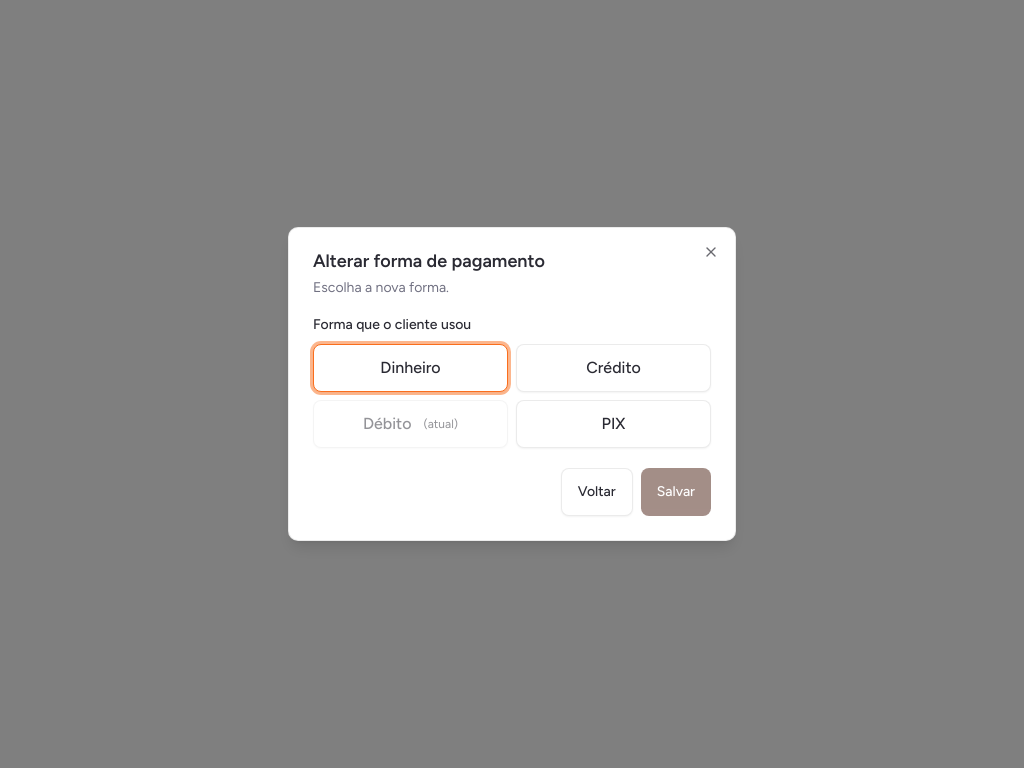
Test case: ChangePaymentMethodDialog › só habilita o confirmar depois de escolher uma forma
Check: the button "Salvar" is disabled, box [641, 468, 711, 516]
Click the button "Crédito" at [614, 368], box [516, 344, 711, 392]
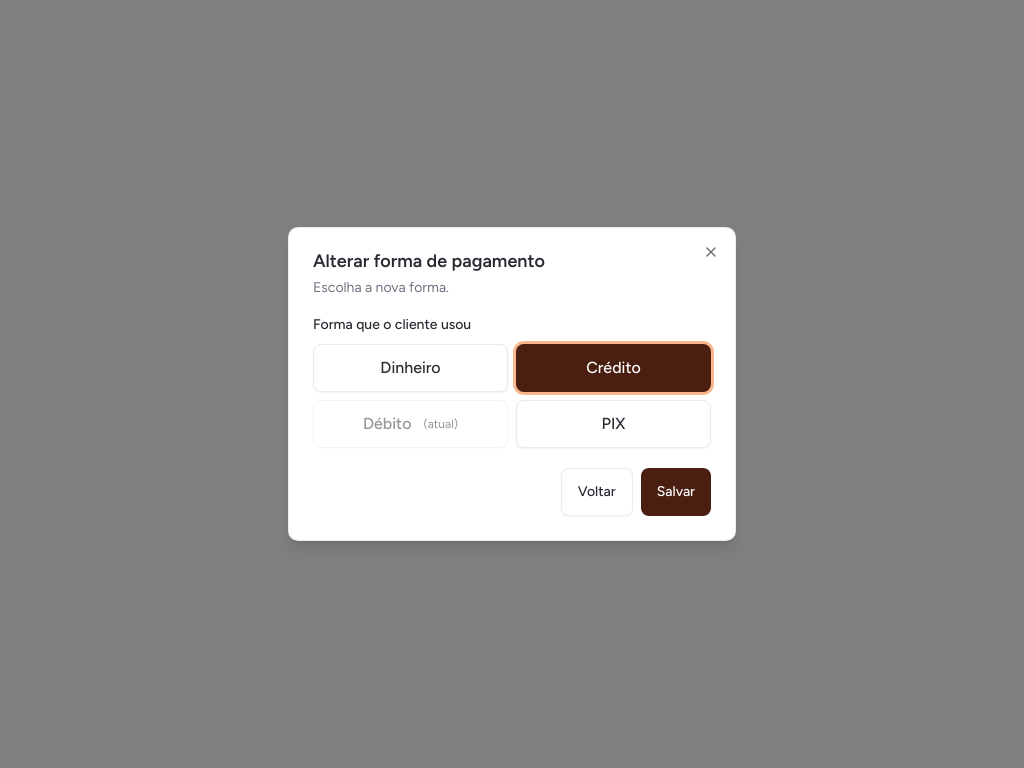
Check: the button "Salvar" is enabled, box [641, 468, 711, 516]
